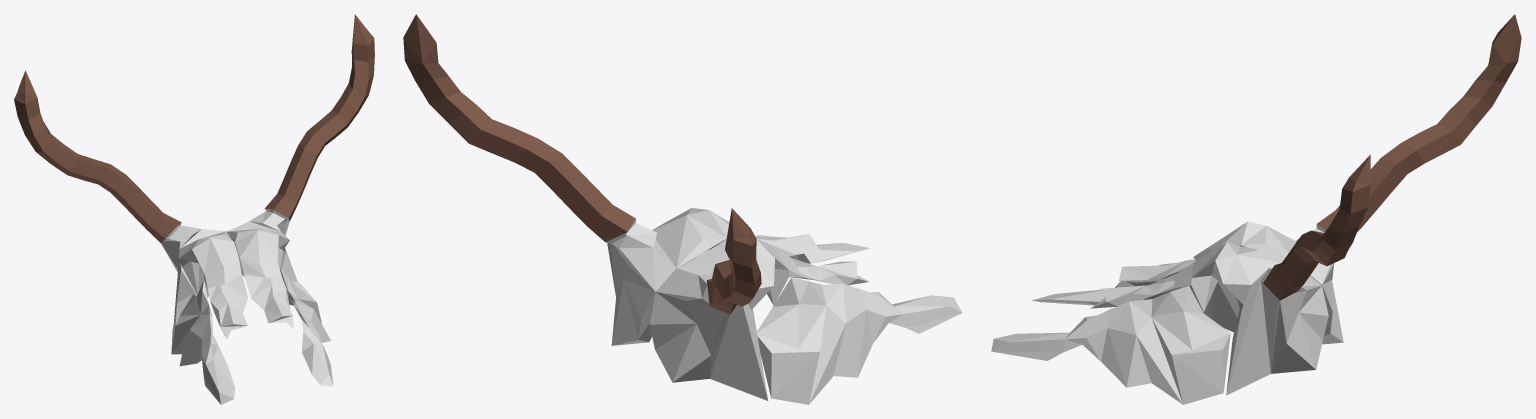
The model's file is bone4.glb.
The picture shows the model from 3 angles, left to right: view 1: azimuth 30°, elevation 25°; view 2: azimuth 150°, elevation 25°; view 3: azimuth 270°, elevation 25°; orthographic projection. The views are drawn at different scales.
Parts seen in each view (by area): view 1: group911862867; view 2: group911862867; view 3: group911862867.
Boxes of the visible parts, x1=… form: group911862867: x1=14, y1=14, x2=374, y2=404; group911862867: x1=403, y1=14, x2=962, y2=404; group911862867: x1=991, y1=14, x2=1521, y2=404.
Bounding box in the file's own units: 0.5224 × 0.4163 × 0.5994.
